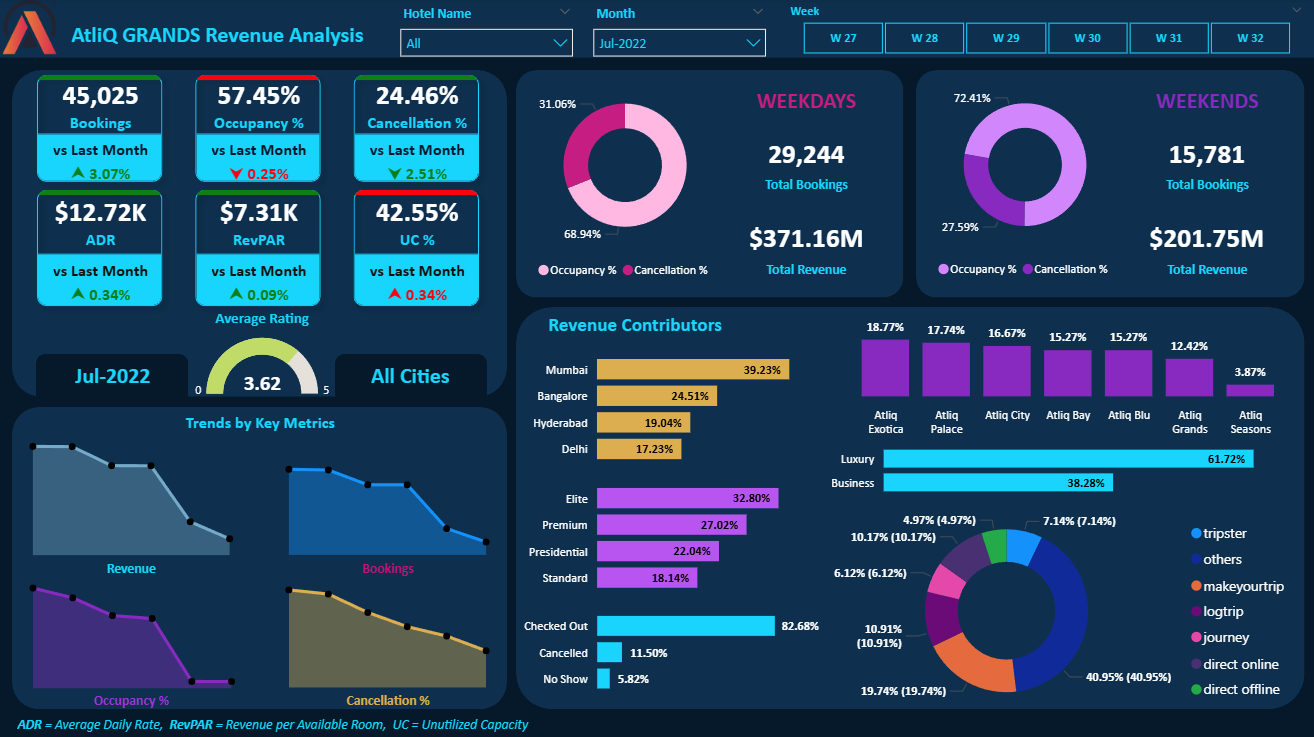

What the dashboard file says about the page in this screenshot:
{"tool":"powerbi","page":{"name":"dashboard","canvas":[1280,720],"ordinal":0},"visuals":[{"type":"shape","box":[12.4,69.4,481.6,317.9],"z":0},{"type":"gauge","title":"Average Rating","fields":{"Y":["Key Measures.Average Rating"]},"box":[181.2,301.4,150.2,97.3],"z":1000},{"type":"shape","box":[502.5,299.7,767.2,391.3],"z":2000},{"type":"shape","box":[891.8,69,377.9,221.4],"z":3000},{"type":"shape","box":[502.5,69,376.9,221.4],"z":4000},{"type":"shape","box":[0,0,1280,57],"z":5000},{"type":"image","box":[0,0,60.1,53.9],"z":6000},{"type":"textbox","box":[65.2,16.6,300.3,37.3],"z":7000},{"type":"slicer","fields":{"Values":["dim_hotels.property_name"]},"box":[380.1,0,188.5,57],"z":11000},{"type":"slicer","fields":{"Values":["dim_date.mmm-yy"]},"box":[568.4,0,188.4,56.6],"z":12000},{"type":"slicer","fields":{"Values":["dim_date.week_no"]},"box":[756.9,0,523.1,59.7],"z":13000},{"type":"textbox","box":[698.2,80.3,174,42.2],"z":14000},{"type":"textbox","box":[1089.5,80.3,172,42.2],"z":15000},{"type":"textbox","box":[698.2,165.8,174,34],"z":16000},{"type":"cardVisual","fields":{"Data":["Key Measures.Total Bookings"]},"box":[698.2,117.4,174,64.9],"z":17000},{"type":"textbox","box":[1089.5,165.8,172,34],"z":18000},{"type":"cardVisual","fields":{"Data":["Key Measures.Total Bookings"]},"box":[1089.5,117.4,172,64.9],"z":19000},{"type":"cardVisual","fields":{"Data":["Key Measures.Revenue"]},"box":[698.2,199.8,174,64.9],"z":20000},{"type":"textbox","box":[698.2,248.2,174,34],"z":21000},{"type":"cardVisual","fields":{"Data":["Key Measures.Revenue"]},"box":[1089.5,199.8,172,64.9],"z":22000},{"type":"textbox","box":[1089.5,248.2,172,34],"z":23000},{"type":"donutChart","fields":{"Y":["Key Measures.Occupancy %","Key Measures.Cancellation %"]},"box":[502.5,69,212.1,213.2],"z":24000},{"type":"donutChart","fields":{"Y":["Key Measures.Occupancy %","Key Measures.Cancellation %"]},"box":[891.8,69,212.1,212.1],"z":25000},{"type":"shape","box":[12.4,396.6,481.6,294.1],"z":26000},{"type":"textbox","box":[502.5,299.7,231.7,34],"z":27000},{"type":"barChart","fields":{"Y":["Key Measures.Revenue"],"Category":["dim_hotels.city"]},"box":[511.8,326.4,299.7,137],"z":28000},{"type":"barChart","fields":{"Y":["Key Measures.Revenue"],"Category":["dim_rooms.room_class"]},"box":[508.1,452.2,298.8,136.6],"z":29000},{"type":"barChart","fields":{"Y":["Key Measures.Revenue"],"Category":["fact_bookings.booking_status"]},"box":[502.5,576.7,299.7,110.2],"z":30000},{"type":"columnChart","fields":{"Y":["Divide(Key Measures.Revenue, ScopedEval(Key Measures.Revenue, []))"],"Category":["dim_hotels.property_name"]},"box":[802.2,299.7,467.5,133.9],"z":31000},{"type":"barChart","fields":{"Y":["Key Measures.Revenue"],"Category":["dim_hotels.category"]},"box":[802.2,404.7,467.5,100.9],"z":32000},{"type":"donutChart","fields":{"Y":["Divide(Key Measures.Revenue, ScopedEval(Key Measures.Revenue, []))"],"Category":["fact_bookings.booking_platform"]},"box":[796.6,485.5,467.7,219.2],"z":33000},{"type":"textbox","box":[14.5,396.6,479.5,34.2],"z":34000},{"type":"areaChart","title":"Revenue","fields":{"Y":["Key Measures.Revenue"],"Category":["dim_date.week_no"]},"box":[12.4,413.2,232,133.6],"z":35000},{"type":"areaChart","title":"Occupancy %","fields":{"Y":["Key Measures.Occupancy %"],"Category":["dim_date.week_no"]},"box":[12.4,541.6,234,133.6],"z":36000},{"type":"areaChart","title":"Cancellation %","fields":{"Y":["Key Measures.Cancellation %"],"Category":["dim_date.week_no"]},"box":[261.6,546.8,232.5,128.4],"z":37000},{"type":"areaChart","title":"Booking","fields":{"Y":["Key Measures.Total Bookings"],"Category":["dim_date.week_no"]},"box":[261.6,413.5,232.5,133.3],"z":38000},{"type":"textbox","box":[28,538.5,200.9,29],"z":39000},{"type":"textbox","box":[278.2,539.3,200.4,28.2],"z":40000},{"type":"textbox","box":[28,666.9,200.9,31.1],"z":41000},{"type":"shape","box":[36.2,344.9,148.1,48.7],"z":42000},{"type":"textbox","box":[278.2,666.9,200.4,31.1],"z":43000},{"type":"cardVisual","fields":{"Data":["Key Measures.Selected Month"]},"box":[33.1,333.5,155.3,63.2],"z":44000},{"type":"shape","box":[326.8,344.9,147.8,48.6],"z":45000},{"type":"cardVisual","fields":{"Data":["Key Measures.Selected City"]},"box":[321,334.5,158.4,62.1],"z":46000},{"type":"textbox","box":[12.4,690.7,1257.3,29.3],"z":47000},{"type":"cardVisual","fields":{"Data":["Key Measures.Total Bookings","Key Measures.Occupancy %","Key Measures.Cancellation %"]},"box":[4.1,40.4,497.1,170.9],"z":49000},{"type":"cardVisual","fields":{"Data":["Key Measures.ADR","Key Measures.RevPAR","Key Measures.Unutilized Capacity %"]},"box":[4.1,152.2,497.1,179.2],"z":49001}]}

Visuals, with their boxes in screenshot pixels (x1, y1, x2, y2), scaled from the page's 1280x720 canvas onto the 1314x737 screenshot:
shape: x1=13 y1=71 x2=507 y2=396
"Average Rating" gauge: x1=186 y1=309 x2=340 y2=408
shape: x1=516 y1=307 x2=1303 y2=707
shape: x1=915 y1=71 x2=1303 y2=297
shape: x1=516 y1=71 x2=903 y2=297
shape: x1=0 y1=0 x2=1313 y2=58
image: x1=0 y1=0 x2=62 y2=55
textbox: x1=67 y1=17 x2=375 y2=55
slicer - dim_hotels.property_name: x1=390 y1=0 x2=584 y2=58
slicer - dim_date.mmm-yy: x1=583 y1=0 x2=777 y2=58
slicer - dim_date.week_no: x1=777 y1=0 x2=1313 y2=61
textbox: x1=717 y1=82 x2=895 y2=125
textbox: x1=1118 y1=82 x2=1295 y2=125
textbox: x1=717 y1=170 x2=895 y2=205
cardVisual - Key Measures.Total Bookings: x1=717 y1=120 x2=895 y2=187
textbox: x1=1118 y1=170 x2=1295 y2=205
cardVisual - Key Measures.Total Bookings: x1=1118 y1=120 x2=1295 y2=187
cardVisual - Key Measures.Revenue: x1=717 y1=205 x2=895 y2=271
textbox: x1=717 y1=254 x2=895 y2=289
cardVisual - Key Measures.Revenue: x1=1118 y1=205 x2=1295 y2=271
textbox: x1=1118 y1=254 x2=1295 y2=289
donutChart - Key Measures.Occupancy % x Key Measures.Cancellation %: x1=516 y1=71 x2=734 y2=289
donutChart - Key Measures.Occupancy % x Key Measures.Cancellation %: x1=915 y1=71 x2=1133 y2=288
shape: x1=13 y1=406 x2=507 y2=707
textbox: x1=516 y1=307 x2=754 y2=342
barChart - Key Measures.Revenue x dim_hotels.city: x1=525 y1=334 x2=833 y2=474
barChart - Key Measures.Revenue x dim_rooms.room_class: x1=522 y1=463 x2=828 y2=603
barChart - Key Measures.Revenue x fact_bookings.booking_status: x1=516 y1=590 x2=824 y2=703
columnChart - Divide(Key Measures.Revenue, ScopedEval(Key Measures.Revenue, [])) x dim_hotels.property_name: x1=824 y1=307 x2=1303 y2=444
barChart - Key Measures.Revenue x dim_hotels.category: x1=824 y1=414 x2=1303 y2=518
donutChart - Divide(Key Measures.Revenue, ScopedEval(Key Measures.Revenue, [])) x fact_bookings.booking_platform: x1=818 y1=497 x2=1298 y2=721
textbox: x1=15 y1=406 x2=507 y2=441
"Revenue" areaChart: x1=13 y1=423 x2=251 y2=560
"Occupancy %" areaChart: x1=13 y1=554 x2=253 y2=691
"Cancellation %" areaChart: x1=269 y1=560 x2=507 y2=691
"Booking" areaChart: x1=269 y1=423 x2=507 y2=560
textbox: x1=29 y1=551 x2=235 y2=581
textbox: x1=286 y1=552 x2=491 y2=581
textbox: x1=29 y1=683 x2=235 y2=714
shape: x1=37 y1=353 x2=189 y2=403
textbox: x1=286 y1=683 x2=491 y2=714
cardVisual - Key Measures.Selected Month: x1=34 y1=341 x2=193 y2=406
shape: x1=335 y1=353 x2=487 y2=403
cardVisual - Key Measures.Selected City: x1=330 y1=342 x2=492 y2=406
textbox: x1=13 y1=707 x2=1303 y2=736
cardVisual - Key Measures.Total Bookings x Key Measures.Occupancy %: x1=4 y1=41 x2=515 y2=216
cardVisual - Key Measures.ADR x Key Measures.RevPAR: x1=4 y1=156 x2=515 y2=339
